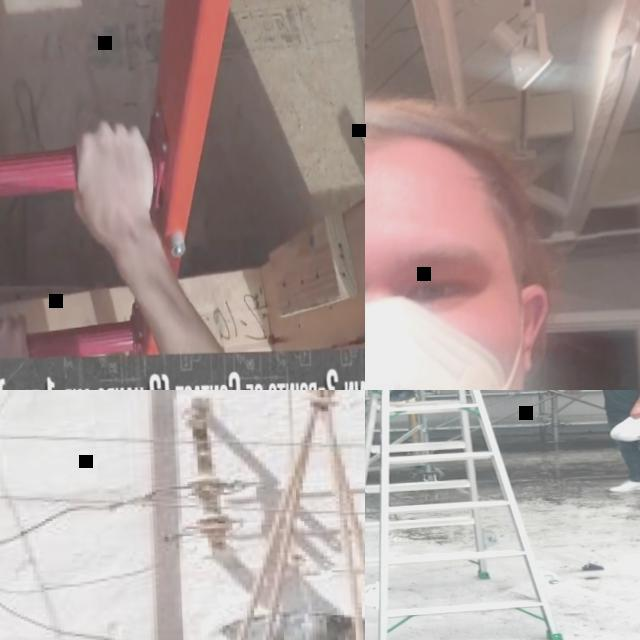helmet: (607, 415, 640, 446)
mask: (365, 294, 536, 390)
no_helmet: (365, 95, 531, 256)
no_vest: (602, 390, 640, 421)
person: (365, 86, 640, 390), (70, 117, 224, 356), (561, 390, 640, 497)
